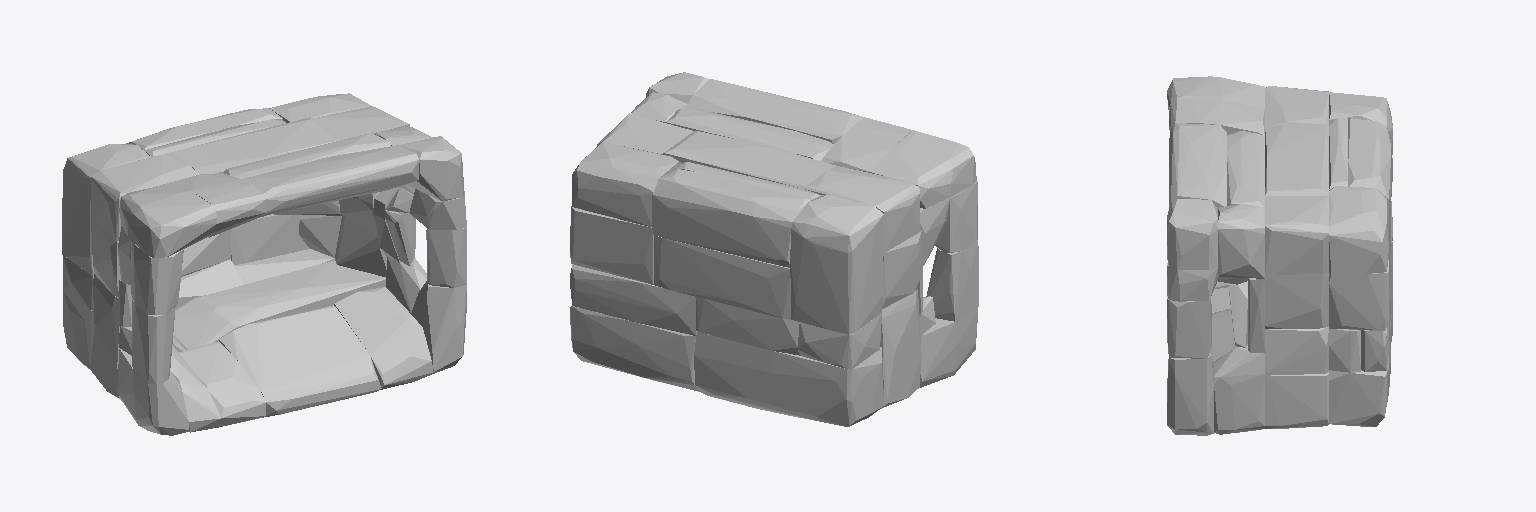
The model's file is model_z3n3Hp2aoy4_vhacd.obj.
3 views of the same model, side by side, from view 1: azimuth 30°, elevation 25°; view 2: azimuth 150°, elevation 25°; view 3: azimuth 270°, elevation 25° (orthographic).
Visible parts, largest first — view 1: convex_16, convex_8, convex_21, convex_17, convex_15, convex_28, convex_3, convex_13, convex_27, convex_19, convex_29, convex_1 (+28 smaller); view 2: convex_3, convex_1, convex_36, convex_26, convex_2, convex_5, convex_24, convex_21, convex_15, convex_4, convex_28, convex_27 (+14 smaller); view 3: convex_5, convex_12, convex_28, convex_21, convex_18, convex_19, convex_35, convex_11, convex_8, convex_34, convex_4, convex_2 (+15 smaller).
Boxes of the visible parts, box(x1,y1,x2,y2) form: convex_16: box(219, 305, 381, 417); convex_8: box(173, 260, 385, 349); convex_21: box(242, 145, 419, 215); convex_17: box(334, 287, 433, 389); convex_15: box(119, 183, 216, 257); convex_28: box(172, 117, 341, 173); convex_3: box(62, 144, 150, 276); convex_13: box(179, 341, 265, 427); convex_27: box(91, 152, 199, 240); convex_19: box(411, 281, 466, 373); convex_29: box(117, 348, 188, 435); convex_1: box(63, 259, 243, 368); convex_3: box(790, 194, 883, 334); convex_1: box(694, 331, 883, 426); convex_36: box(652, 168, 811, 267); convex_26: box(654, 235, 790, 319); convex_2: box(570, 306, 698, 391); convex_5: box(572, 142, 681, 226); convex_24: box(570, 264, 696, 335); convex_21: box(686, 79, 863, 143); convex_15: box(870, 130, 976, 208); convex_4: box(570, 206, 653, 284); convex_28: box(662, 131, 835, 188); convex_27: box(805, 166, 920, 252); convex_5: box(1329, 186, 1388, 273); convex_12: box(1265, 196, 1328, 274); convex_28: box(1265, 125, 1328, 195); convex_21: box(1169, 123, 1226, 208); convex_18: box(1214, 345, 1264, 434); convex_19: box(1167, 353, 1213, 435); convex_35: box(1167, 199, 1217, 269); convex_11: box(1265, 273, 1328, 328); convex_8: box(1265, 372, 1328, 428); convex_34: box(1218, 204, 1264, 278); convex_4: box(1329, 260, 1388, 330); convex_2: box(1329, 336, 1390, 426).
Bounding box in the file's own units: 0.2412 × 0.1641 × 0.1486.